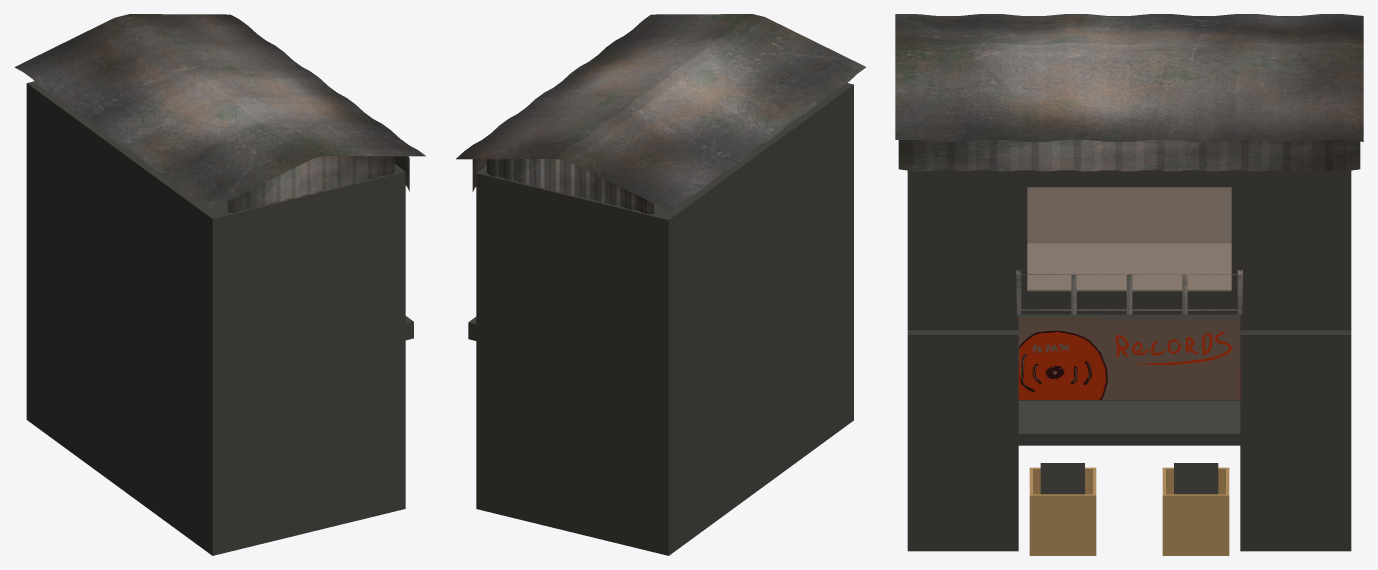
Rendered from recordstore.glb.
3 views of the same model, side by side, from view 1: azimuth 30°, elevation 25°; view 2: azimuth 150°, elevation 25°; view 3: azimuth 270°, elevation 25° (orthographic). The views are drawn at different scales.
Visible parts, largest first — view 1: record.003, Plane.002; view 2: record.003, Plane.002; view 3: record.003, Plane.002, Plane, Cube.002, Cube.001.
Boxes of the visible parts, x1,y1,x2,y2 form: record.003: (26, 81, 413, 555); Plane.002: (14, 14, 425, 212); record.003: (468, 83, 853, 555); Plane.002: (456, 14, 866, 213); record.003: (907, 170, 1351, 555); Plane.002: (895, 14, 1363, 171); Plane: (1027, 187, 1231, 289); Cube.002: (1027, 187, 1231, 243); Cube.001: (1027, 243, 1231, 290).
Size of the model in its own units: 14.06 by 22.43 by 21.12.
9 materials, 5 textured.
